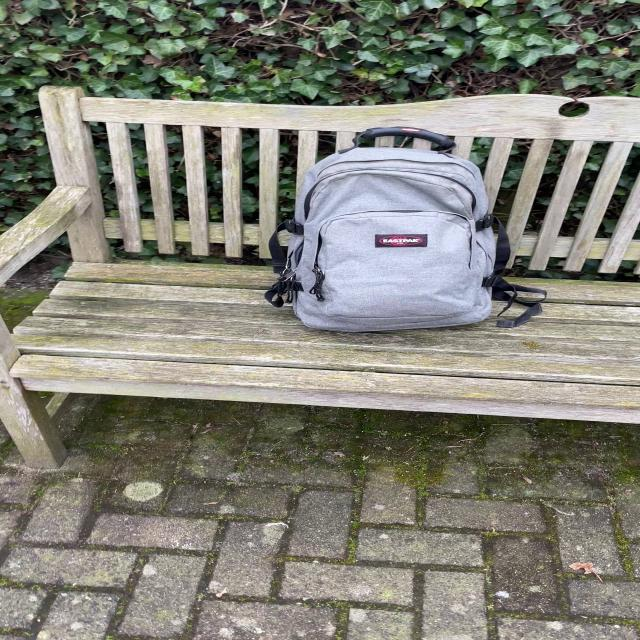backpack: (260, 122, 515, 338)
